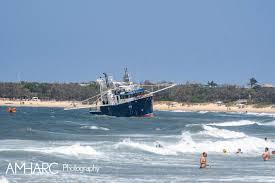Ship: (66, 69, 177, 117)
